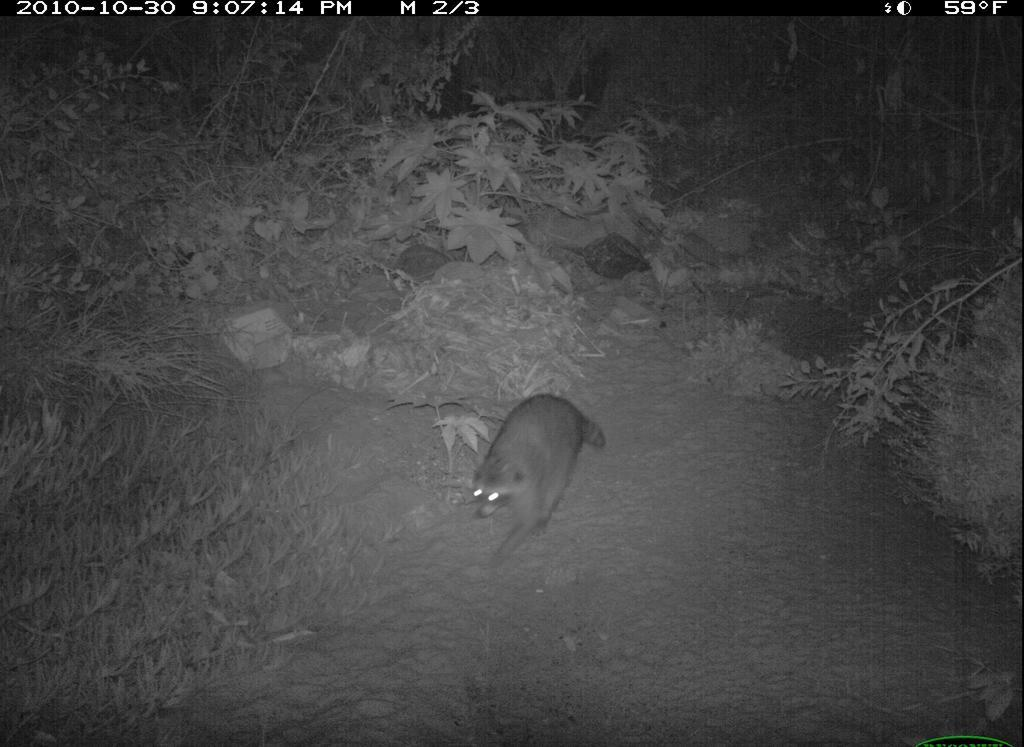raccoon: (457, 392, 611, 566)
